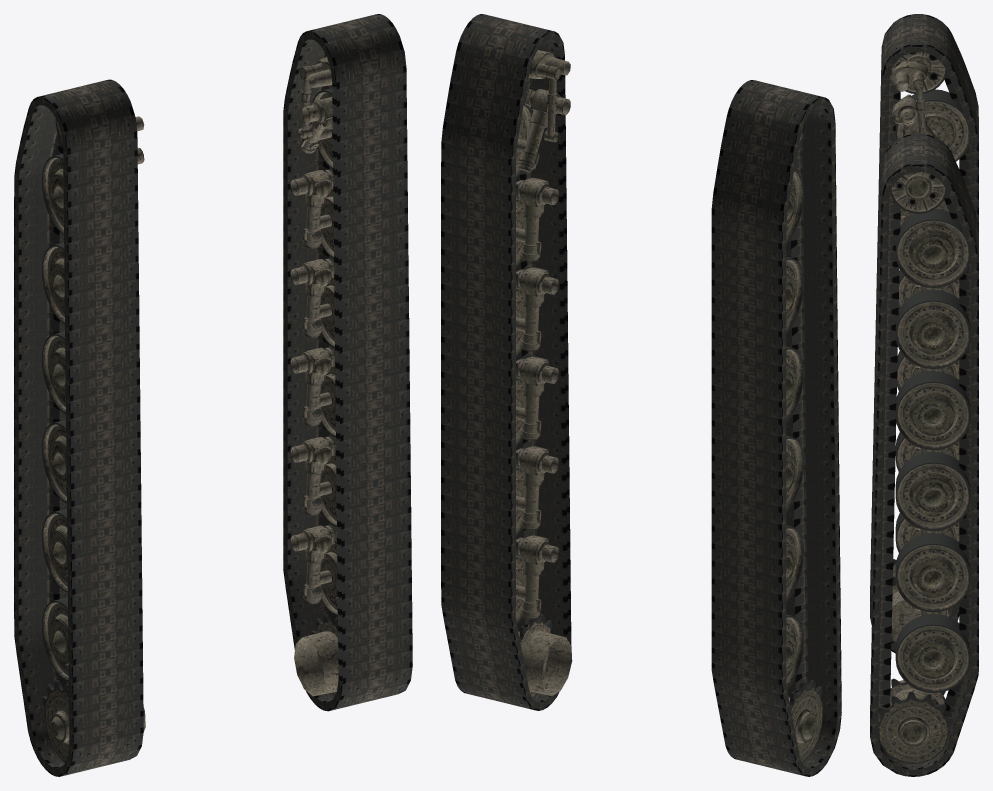
The model's file is Chassis.glb.
3 renders of one model, left to right at view 1: azimuth 30°, elevation 25°; view 2: azimuth 150°, elevation 25°; view 3: azimuth 270°, elevation 25°, orthographic. The views are drawn at different scales.
Visible parts, largest first — view 1: set_0_group_0, set_1_group_0, set_3_group_0, set_2_group_0; view 2: set_0_group_0, set_1_group_0, set_3_group_0, set_2_group_0; view 3: set_3_group_0, set_1_group_0, set_2_group_0, set_0_group_0.
Boxes of the visible parts, left/top/right/bottom form: set_0_group_0: left=14, top=79, right=143, bottom=776; set_1_group_0: left=283, top=14, right=412, bottom=711; set_3_group_0: left=290, top=52, right=397, bottom=702; set_2_group_0: left=42, top=116, right=145, bottom=767; set_0_group_0: left=711, top=80, right=841, bottom=776; set_1_group_0: left=441, top=14, right=571, bottom=710; set_3_group_0: left=515, top=50, right=572, bottom=696; set_2_group_0: left=786, top=119, right=822, bottom=762; set_3_group_0: left=878, top=172, right=970, bottom=763; set_1_group_0: left=870, top=133, right=978, bottom=776; set_2_group_0: left=870, top=52, right=970, bottom=641; set_0_group_0: left=870, top=14, right=978, bottom=653.
Bounding box in the file's own units: 3.39 × 6.42 × 1.03.
Materials: 4 (4 with a texture image).
